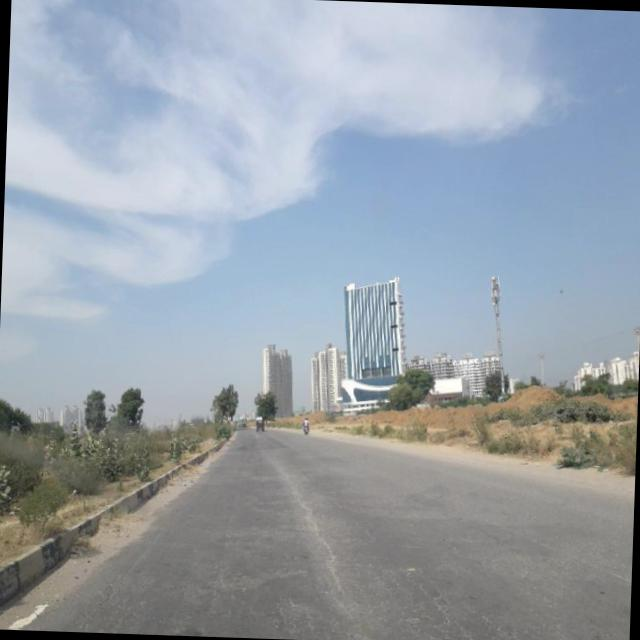crack: (194, 462, 504, 640)
pothole: (267, 455, 359, 620), (405, 563, 476, 640)
